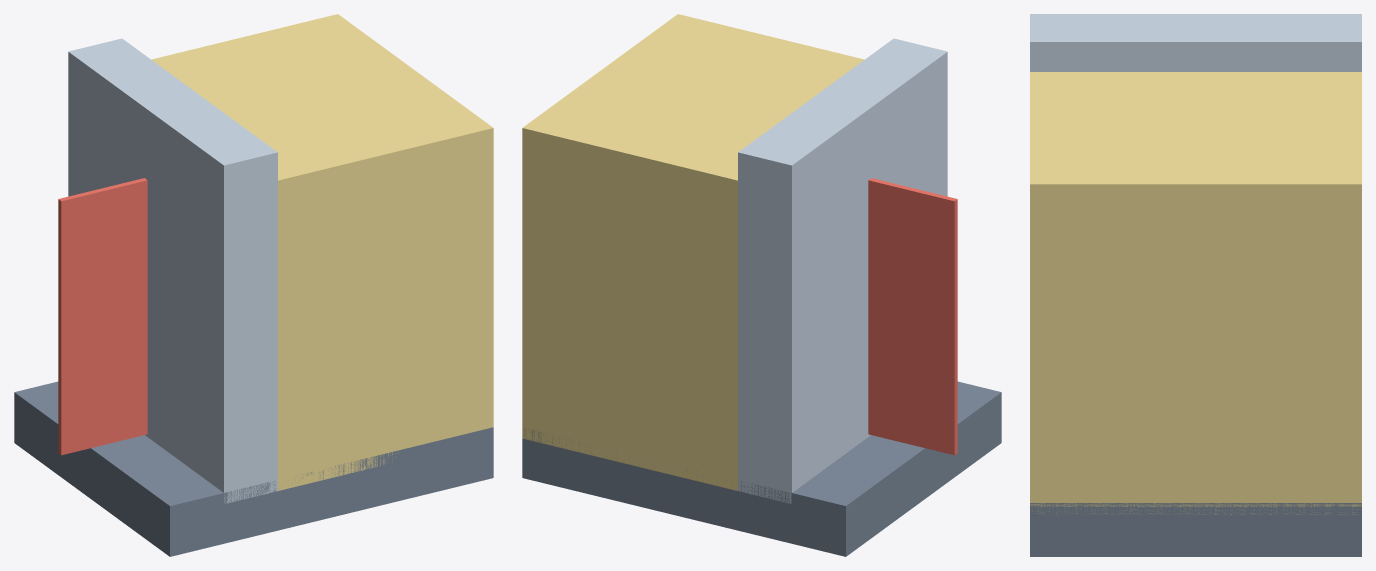
File: rankine_earth_pressure_retaining_wall.glb
3 views of the same model, side by side, from view 1: azimuth 30°, elevation 25°; view 2: azimuth 150°, elevation 25°; view 3: azimuth 270°, elevation 25° (orthographic). The views are drawn at different scales.
Parts seen in each view (by area): view 1: CohesionlessBackfillSoilWedge, CantileverRCCRetainingWallStem, WallFoundationHeelToeBaseSlab, TriangularActivePressureDistribution; view 2: CohesionlessBackfillSoilWedge, CantileverRCCRetainingWallStem, WallFoundationHeelToeBaseSlab, TriangularActivePressureDistribution; view 3: CohesionlessBackfillSoilWedge, CantileverRCCRetainingWallStem, WallFoundationHeelToeBaseSlab.
Boxes of the visible parts, x1,y1,x2,y2 form: CohesionlessBackfillSoilWedge: (151, 14, 493, 490); CantileverRCCRetainingWallStem: (68, 38, 277, 503); WallFoundationHeelToeBaseSlab: (14, 381, 493, 556); TriangularActivePressureDistribution: (58, 178, 147, 455); CohesionlessBackfillSoilWedge: (522, 14, 864, 490); CantileverRCCRetainingWallStem: (738, 38, 947, 503); WallFoundationHeelToeBaseSlab: (522, 381, 1001, 556); TriangularActivePressureDistribution: (868, 178, 957, 455); CohesionlessBackfillSoilWedge: (1030, 72, 1361, 514); CantileverRCCRetainingWallStem: (1030, 14, 1361, 71); WallFoundationHeelToeBaseSlab: (1030, 503, 1361, 556).
Size of the model in its own units: 1.32 by 1.34 by 1.
